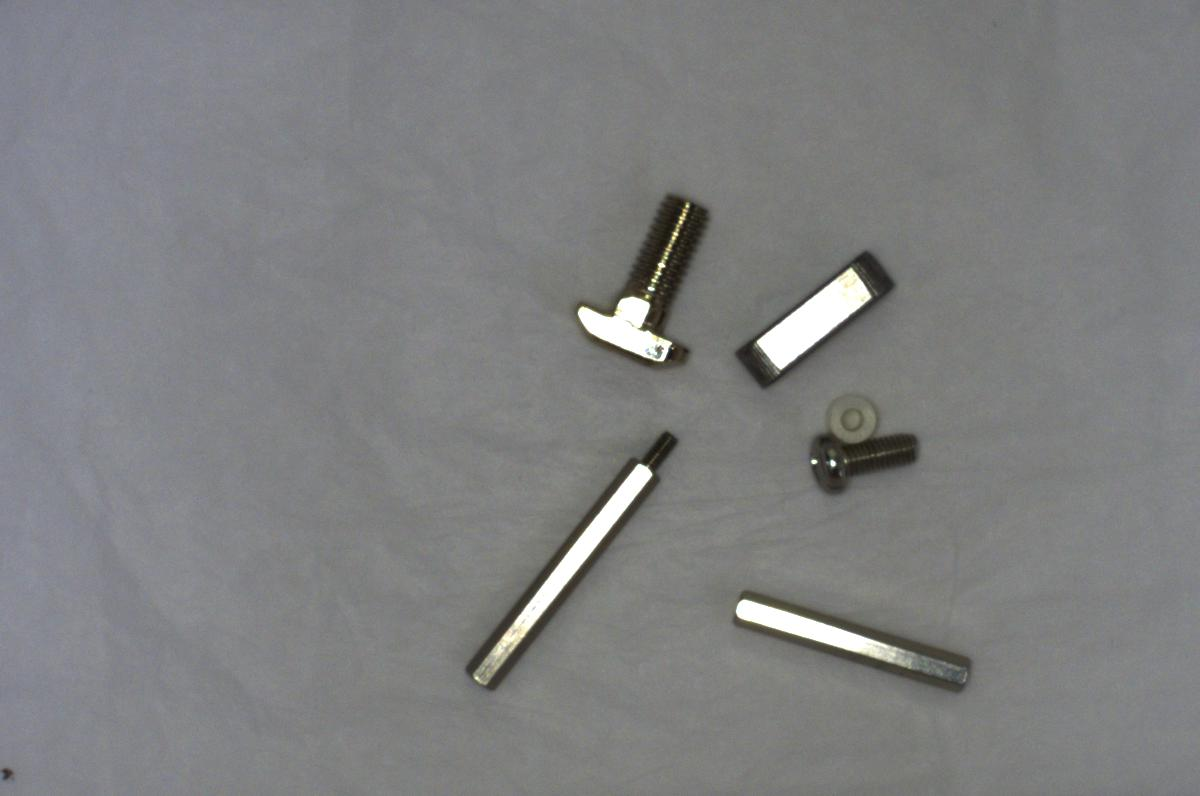Double hexagonal column: (716, 587, 982, 701)
Hexagonal steel column: (446, 422, 684, 691)
Keybar: (728, 241, 897, 390)
Plastic cushion pillar: (808, 382, 888, 445)
Round head screw: (805, 431, 924, 496)
T-shaped screw: (562, 185, 712, 374)
